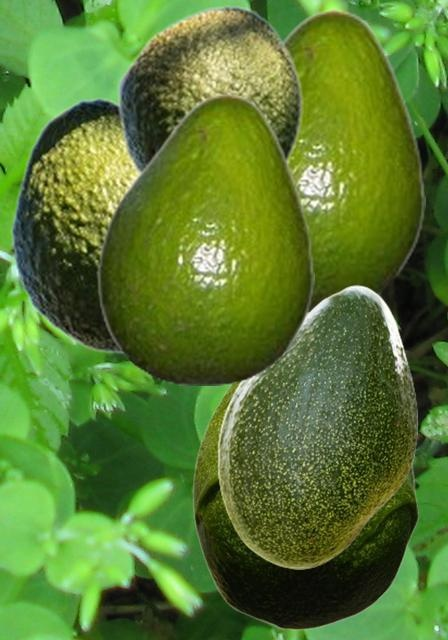avocado: (96, 92, 313, 384), (217, 285, 416, 568), (192, 384, 418, 629), (282, 8, 424, 309), (9, 97, 136, 353), (116, 5, 302, 174)
